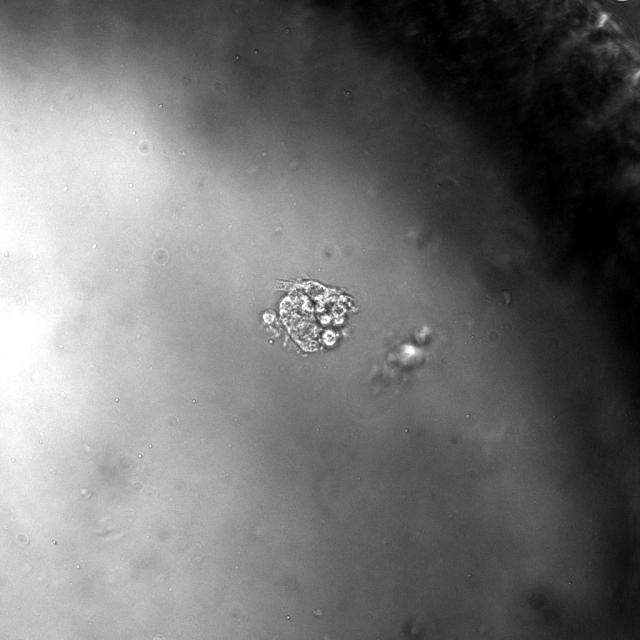organoid: (261, 278, 358, 354), (369, 326, 435, 386)
